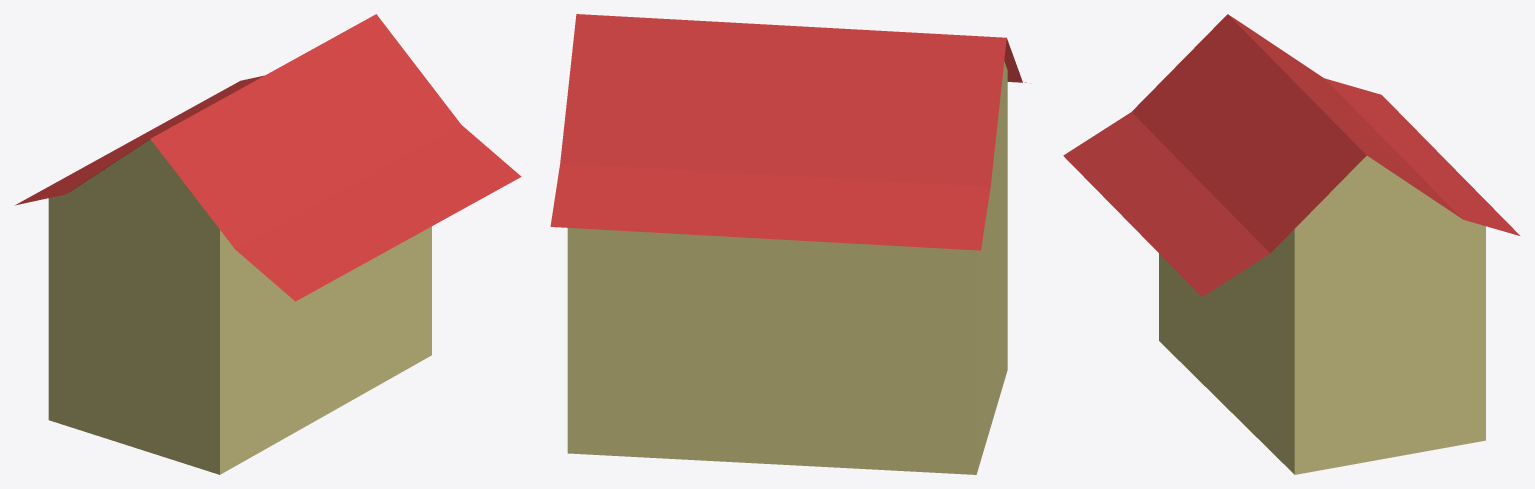
The picture shows the model from 3 angles, left to right: view 1: azimuth 30°, elevation 25°; view 2: azimuth 150°, elevation 25°; view 3: azimuth 270°, elevation 25°; orthographic projection. The views are drawn at different scales.
Size of the model in its own units: 13.28 by 13.01 by 9.74.
